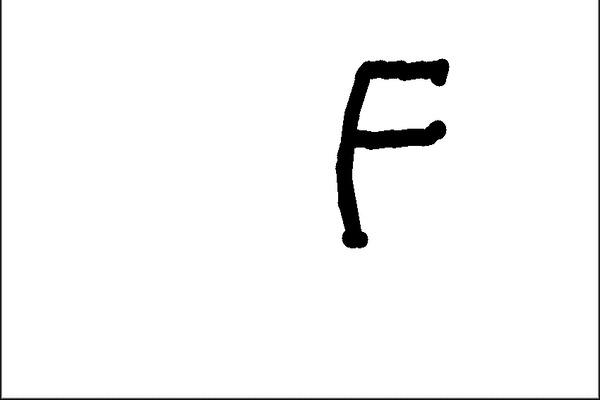F: (326, 52, 452, 253)
